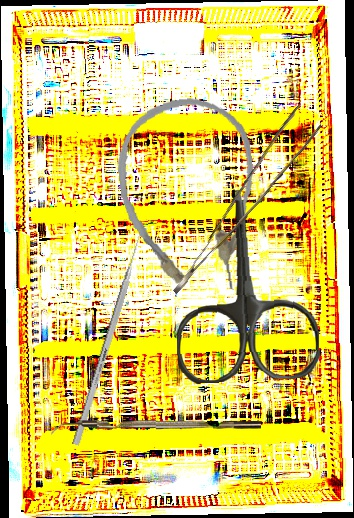Cannula: (110, 91, 268, 303)
Chopper: (51, 417, 261, 440)
Iris Scissors: (169, 186, 321, 385)
Pusher: (71, 219, 149, 447)
Tissue Forceps: (145, 103, 331, 295)
